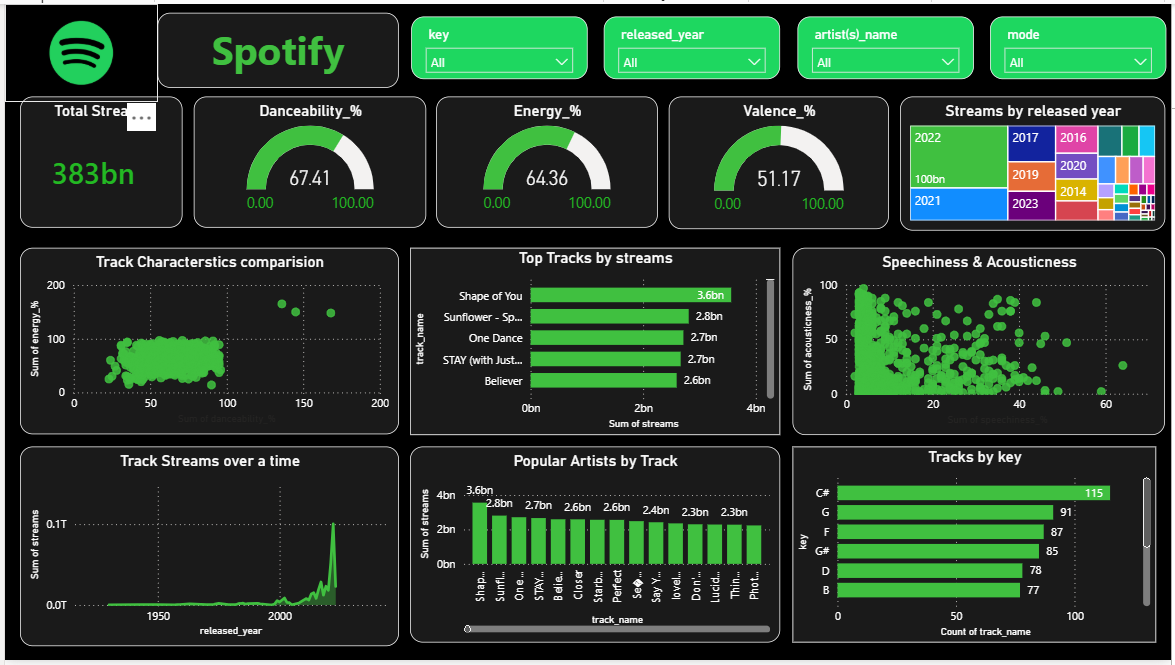

The dashboard page shown, as its layout file describes it:
{"tool":"powerbi","page":{"name":"Spotify Report","canvas":[1280,720],"ordinal":0},"visuals":[{"type":"slicer","fields":{"Values":["spotifyclean.key"]},"box":[446,13.7,193.5,68.6],"z":0},{"type":"slicer","fields":{"Values":["spotifyclean.released_year"]},"box":[657.7,13.7,193.5,68.6],"z":1000},{"type":"slicer","fields":{"Values":["spotifyclean.artist(s)_name"]},"box":[869.5,13.7,193.5,68.6],"z":2000},{"type":"slicer","fields":{"Values":["spotifyclean.mode"]},"box":[1081.3,13.7,193.5,68.6],"z":3000},{"type":"cardVisual","title":"Total Streams","fields":{"Data":["Sum(spotifyclean.streams)"]},"box":[16.5,101.5,178.4,144.1],"z":4000},{"type":"gauge","title":" Danceability_%","fields":{"Y":["Avg(spotifyclean.danceability_%)"]},"box":[206.9,101.5,255.2,144.1],"z":5000},{"type":"gauge","title":"Energy_%","fields":{"Y":["Avg(spotifyclean.energy_%)"]},"box":[474.1,101.5,242.9,144.1],"z":6000},{"type":"gauge","title":"Valence_%","fields":{"Y":["Avg(spotifyclean.valence_%)"]},"box":[729,101.5,241.5,145.5],"z":7000},{"type":"treemap","title":"Streams by released year","fields":{"Values":["Sum(spotifyclean.streams)"],"Group":["spotifyclean.released_year"]},"box":[982.5,101.5,290.9,146.8],"z":8000},{"type":"scatterChart","title":"Track Characterstics comparision","fields":{"Category":["spotifyclean.streams"],"X":["Sum(spotifyclean.danceability_%)"],"Y":["Sum(spotifyclean.energy_%)"]},"box":[16.5,267.6,415.8,204.5],"z":9000},{"type":"clusteredBarChart","title":"Top Tracks by streams","fields":{"Category":["spotifyclean.track_name"],"Y":["Sum(spotifyclean.streams)"]},"box":[445.3,267.6,406.2,205.8],"z":10000},{"type":"scatterChart","title":"Speechiness & Acousticness","fields":{"Category":["spotifyclean.streams"],"X":["Sum(spotifyclean.speechiness_%)"],"Y":["Sum(spotifyclean.acousticness_%)"]},"box":[864.5,267.6,408.9,205.8],"z":11000},{"type":"areaChart","title":"Track Streams over a time","fields":{"Category":["spotifyclean.released_year"],"Y":["Sum(spotifyclean.streams)"]},"box":[16.5,485.8,415.8,219.6],"z":12000},{"type":"columnChart","title":"Popular Artists by Track","fields":{"Category":["spotifyclean.track_name"],"Y":["Sum(spotifyclean.streams)"]},"box":[445.3,485.8,406.2,215.4],"z":13000},{"type":"clusteredBarChart","title":"Tracks by key","fields":{"Y":["CountNonNull(spotifyclean.track_name)"],"Category":["spotifyclean.key"]},"box":[864.5,485.8,399.3,215.4],"z":14000},{"type":"image","box":[0,0,167.4,107],"z":15000},{"type":"textbox","box":[167.4,9.6,264.8,82.3],"z":16000}]}

Visuals, with their boxes in screenshot pixels (x1, y1, x2, y2), scaled from the page's 1280x720 canvas onto the 1175x665 screenshot:
slicer - spotifyclean.key: 409,13,587,76
slicer - spotifyclean.released_year: 604,13,781,76
slicer - spotifyclean.artist(s)_name: 798,13,976,76
slicer - spotifyclean.mode: 993,13,1170,76
"Total Streams" cardVisual: 15,94,179,227
" Danceability_%" gauge: 190,94,424,227
"Energy_%" gauge: 435,94,658,227
"Valence_%" gauge: 669,94,891,228
"Streams by released year" treemap: 902,94,1169,229
"Track Characterstics comparision" scatterChart: 15,247,397,436
"Top Tracks by streams" clusteredBarChart: 409,247,782,437
"Speechiness & Acousticness" scatterChart: 794,247,1169,437
"Track Streams over a time" areaChart: 15,449,397,652
"Popular Artists by Track" columnChart: 409,449,782,648
"Tracks by key" clusteredBarChart: 794,449,1160,648
image: 0,0,154,99
textbox: 154,9,397,85
